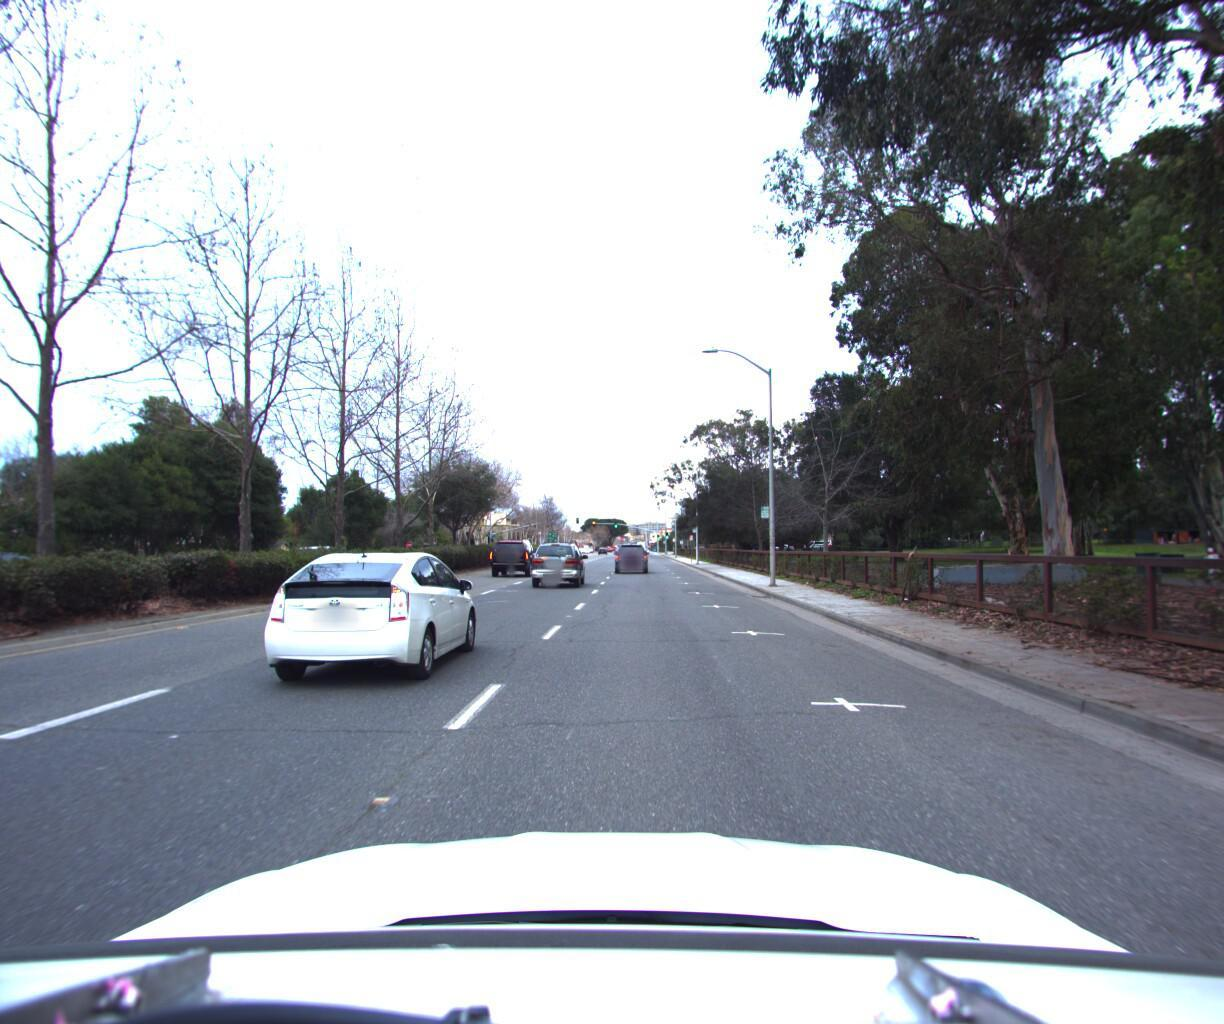car: (246, 544, 490, 695), (529, 534, 586, 583), (489, 533, 539, 573), (612, 538, 647, 569)
